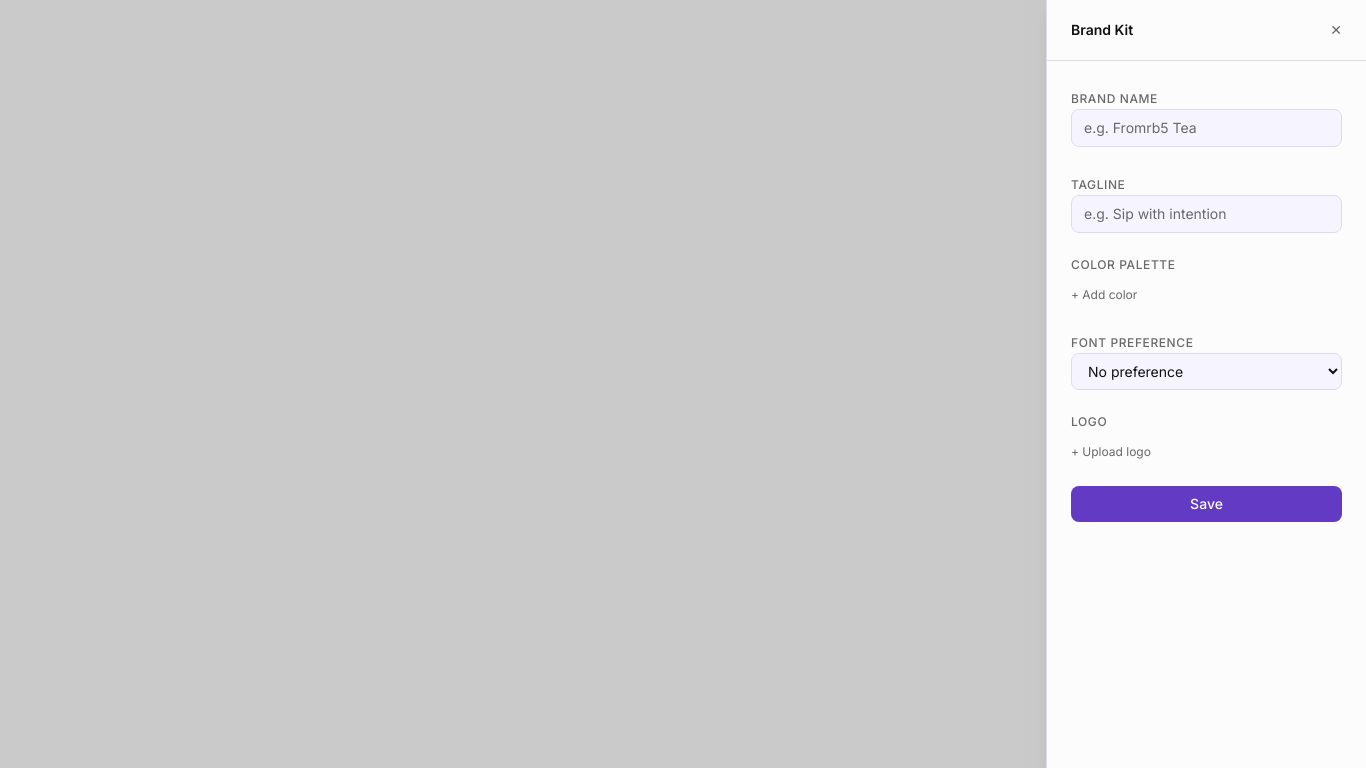
Test: BrandSettingsPanel › adds a color swatch when + Add color is clicked
The image size is (1366, 768).
Click the button "+ Add color" at (1104, 295), box [1071,287,1137,303]
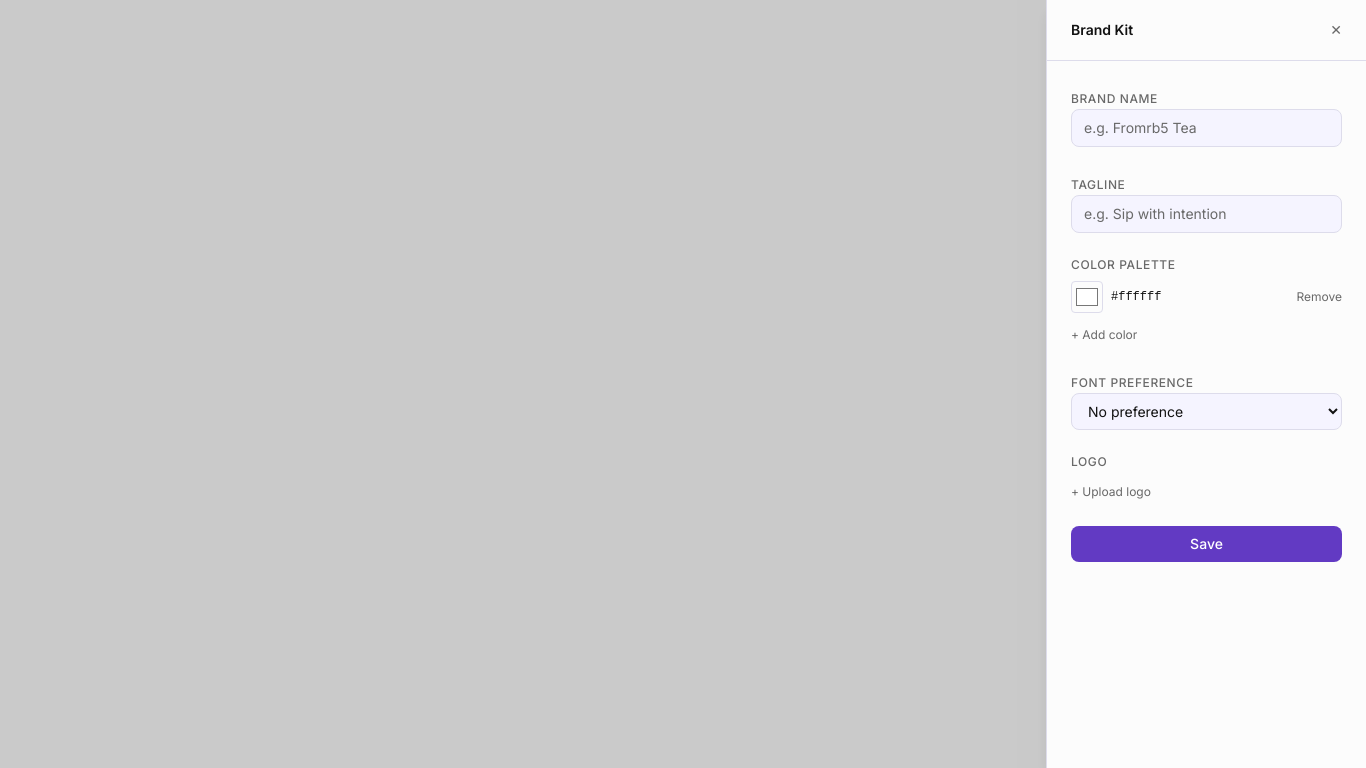
expect the colour field named "Color 1" is shown: met, box [1071,281,1103,313]
